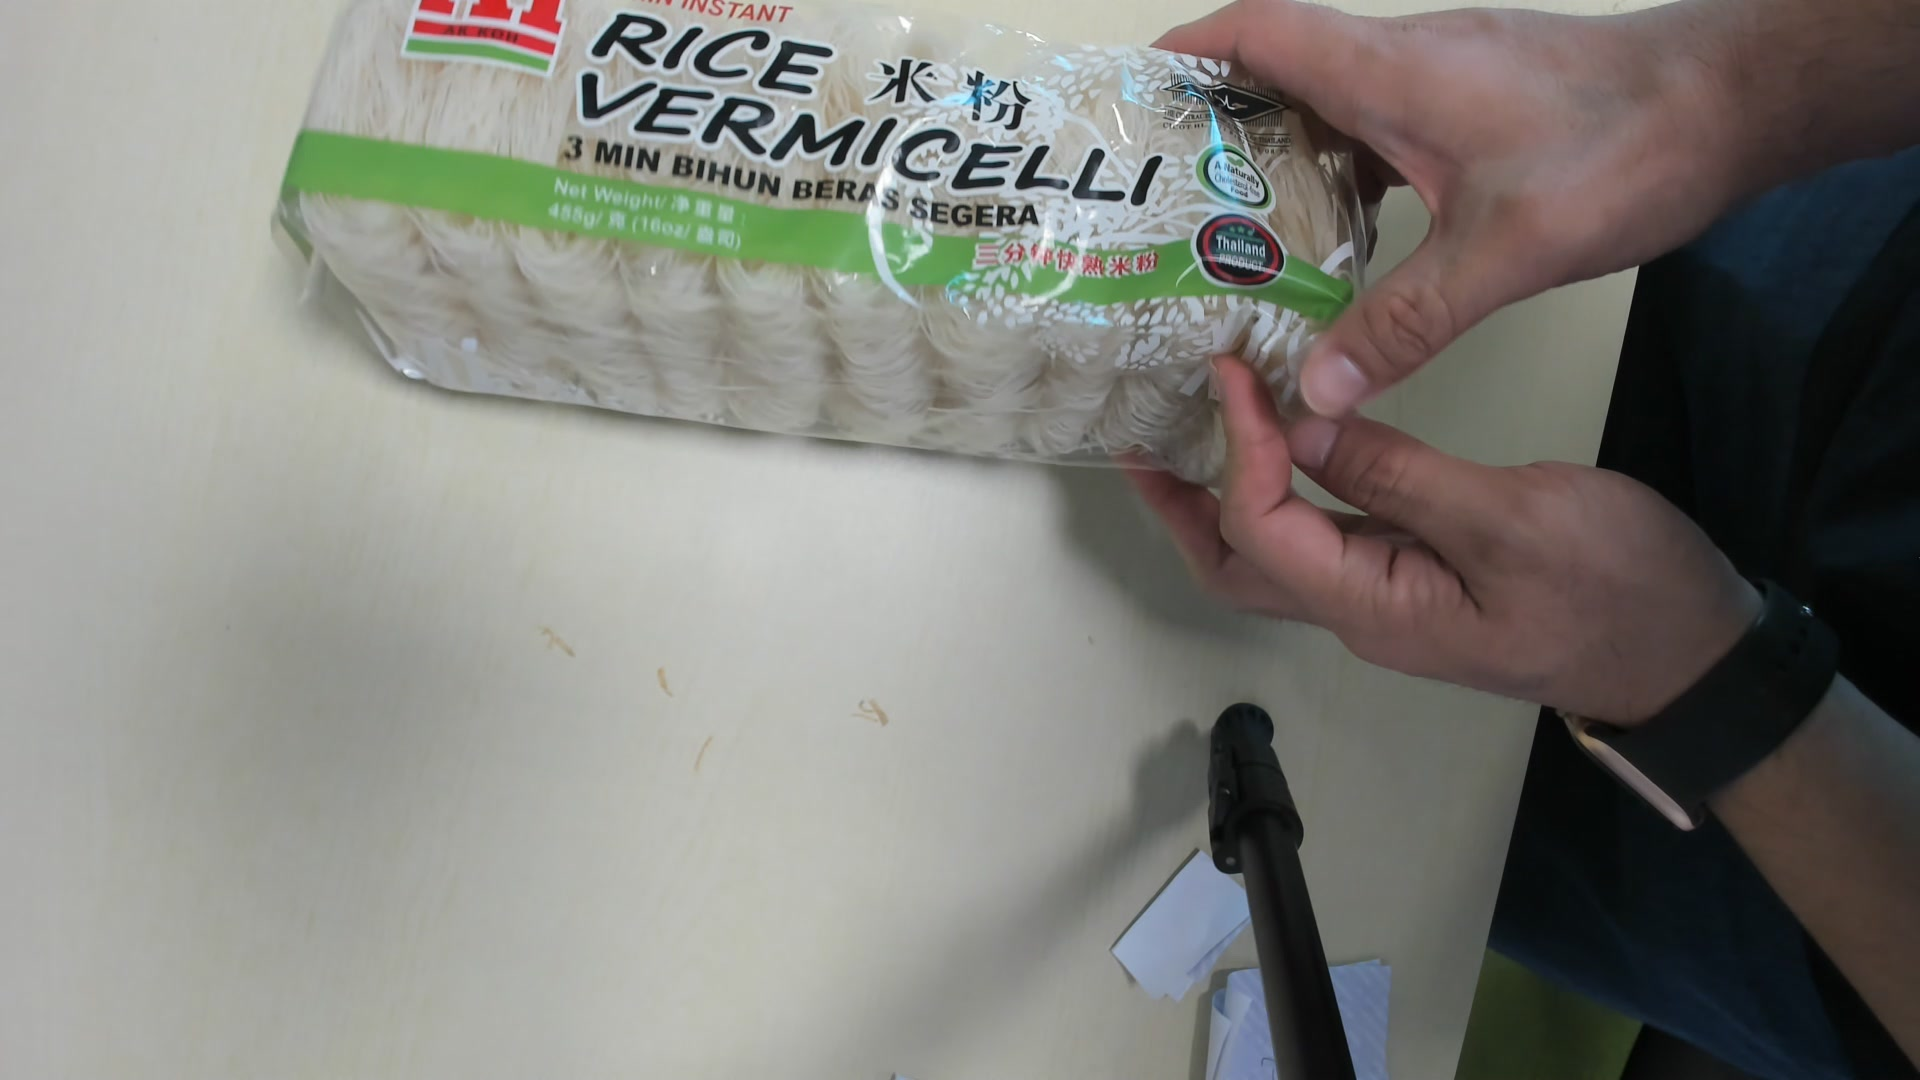BeeHoonVermicelli_400-499g_Halal_NonHealthy: (280, 5, 1379, 467)
